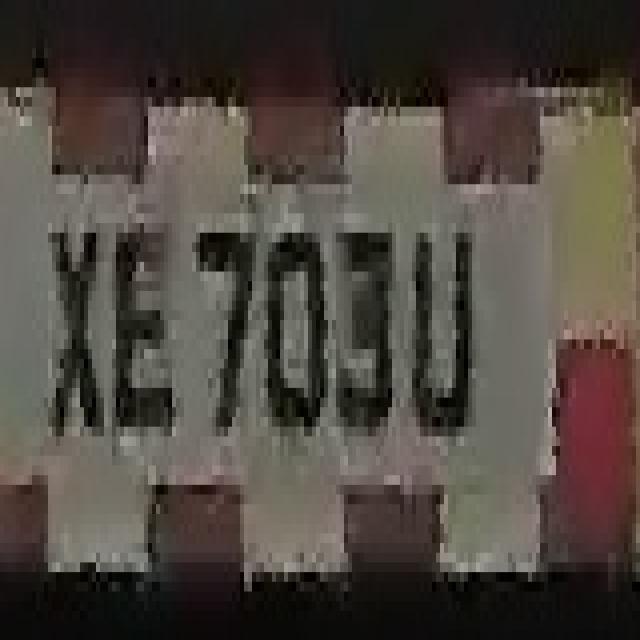0: (260, 194, 336, 446)
3: (324, 194, 400, 427)
7: (192, 165, 260, 465)
E: (116, 204, 176, 436)
U: (404, 165, 480, 456)
X: (36, 184, 120, 475)
